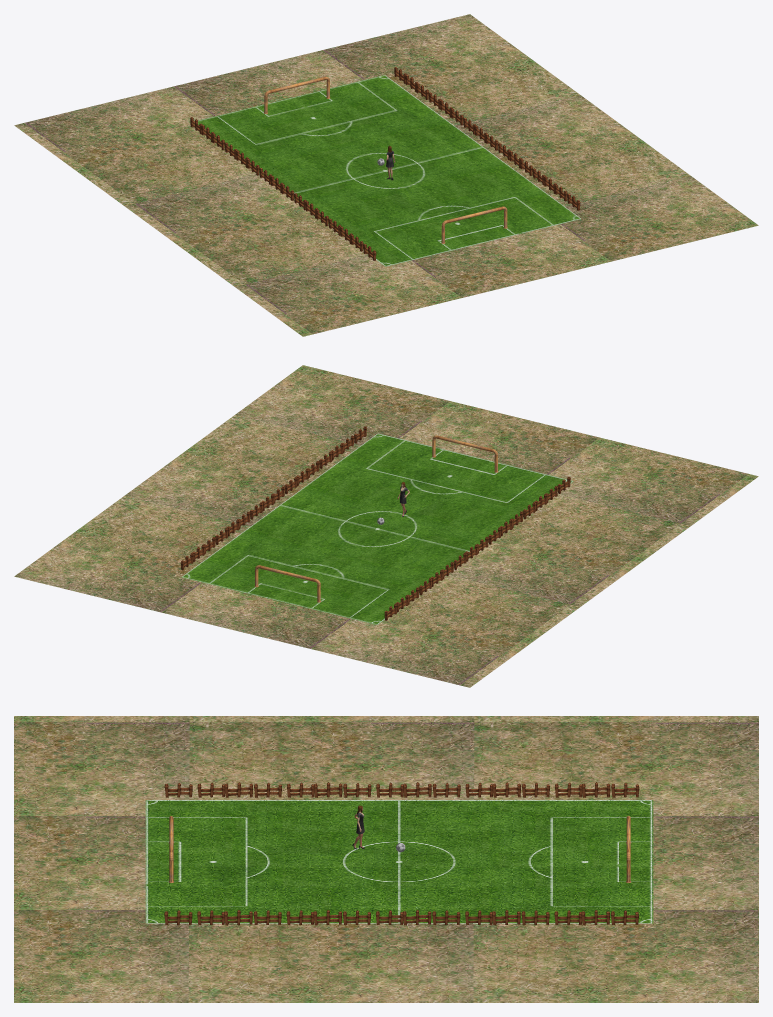
Rendered from soccer.fbx.
The picture shows the model from 3 angles, top to bottom: view 1: azimuth 30°, elevation 25°; view 2: azimuth 150°, elevation 25°; view 3: azimuth 270°, elevation 25°; orthographic projection. The views are drawn at different scales.
Parts seen in each view (by area): view 1: ground, soccer_field; view 2: ground, soccer_field; view 3: ground, soccer_field.
Part boxes in pixels (x1,y1,x2,y2): ground: (14, 14, 758, 336); soccer_field: (189, 75, 581, 266); ground: (14, 365, 758, 687); soccer_field: (181, 433, 573, 624); ground: (14, 716, 758, 1002); soccer_field: (145, 800, 653, 923).
Size of the model in its own units: 18.65 by 1.51 by 20.47.
